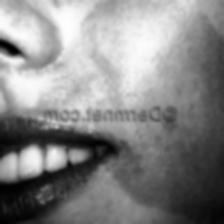Unclassified: (108, 0, 224, 193)
